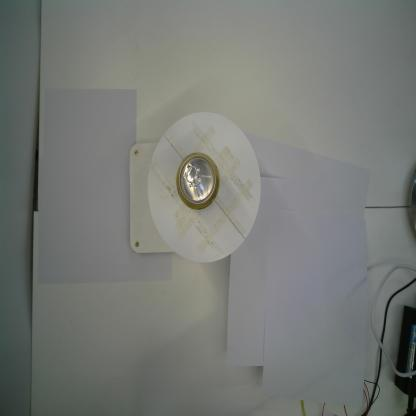Alcohol: (175, 151, 223, 213)
